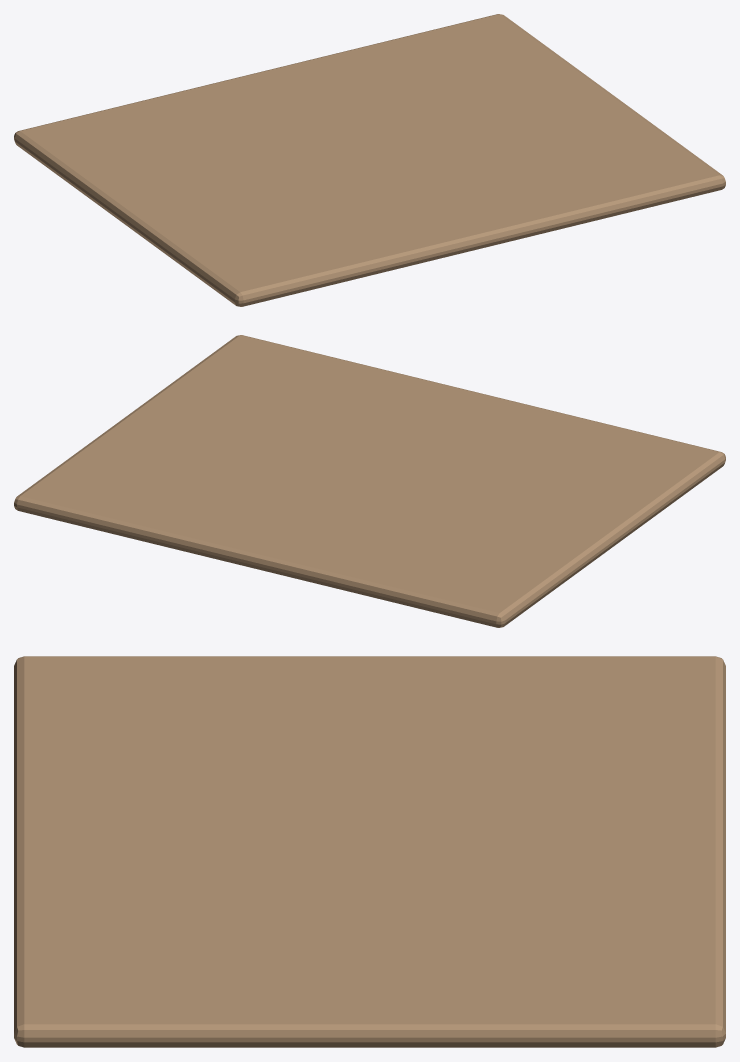
Rendered from leather.glb.
The picture shows the model from 3 angles, top to bottom: view 1: azimuth 30°, elevation 25°; view 2: azimuth 150°, elevation 25°; view 3: azimuth 270°, elevation 25°; orthographic projection. The views are drawn at different scales.
Parts seen in each view (by area): view 1: hide; view 2: hide; view 3: hide.
Part boxes in pixels (x1,y1,x2,y2): hide: (14, 14, 725, 306); hide: (14, 335, 725, 627); hide: (14, 656, 725, 1047).
Bounding box in the file's own units: 0.35 × 0.01 × 0.28.
